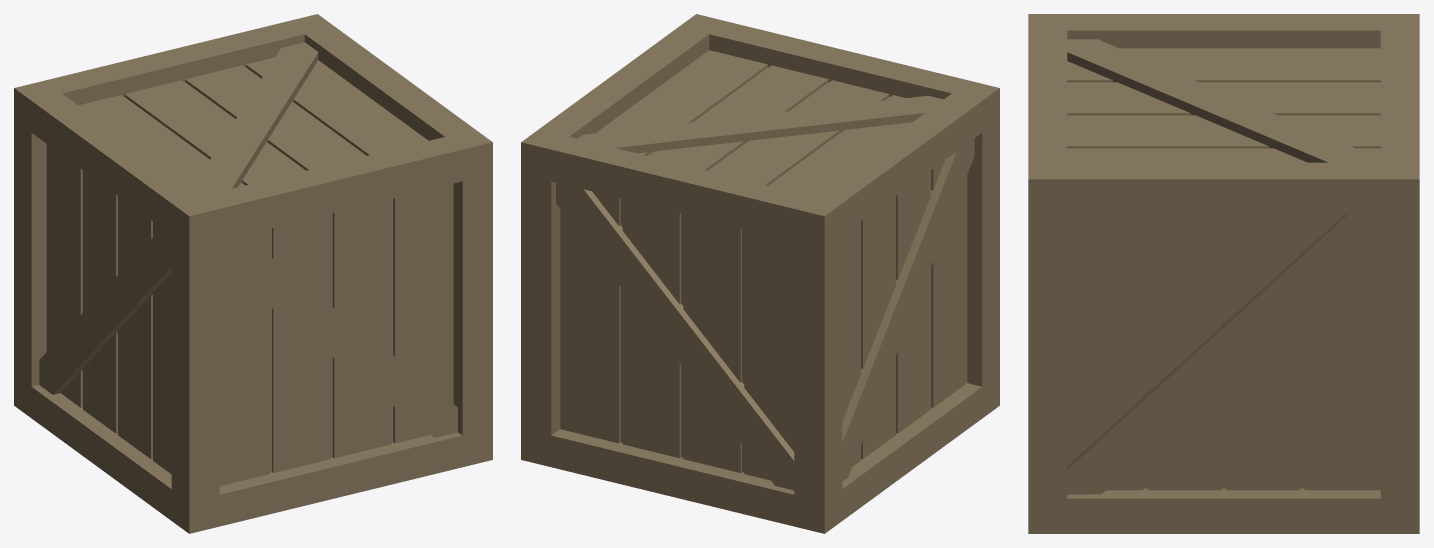
The model's file is low_poly_wooden_box.glb.
3 renders of one model, left to right at view 1: azimuth 30°, elevation 25°; view 2: azimuth 150°, elevation 25°; view 3: azimuth 270°, elevation 25°, orthographic. The views are drawn at different scales.
Parts seen in each view (by area): view 1: Cube.005; view 2: Cube.005; view 3: Cube.005.
Part boxes in pixels (x1,y1,x2,y2): Cube.005: [14, 14, 492, 533]; Cube.005: [521, 14, 999, 533]; Cube.005: [1028, 14, 1419, 533].
Bounding box in the file's own units: 2.2 × 2.2 × 2.2.
